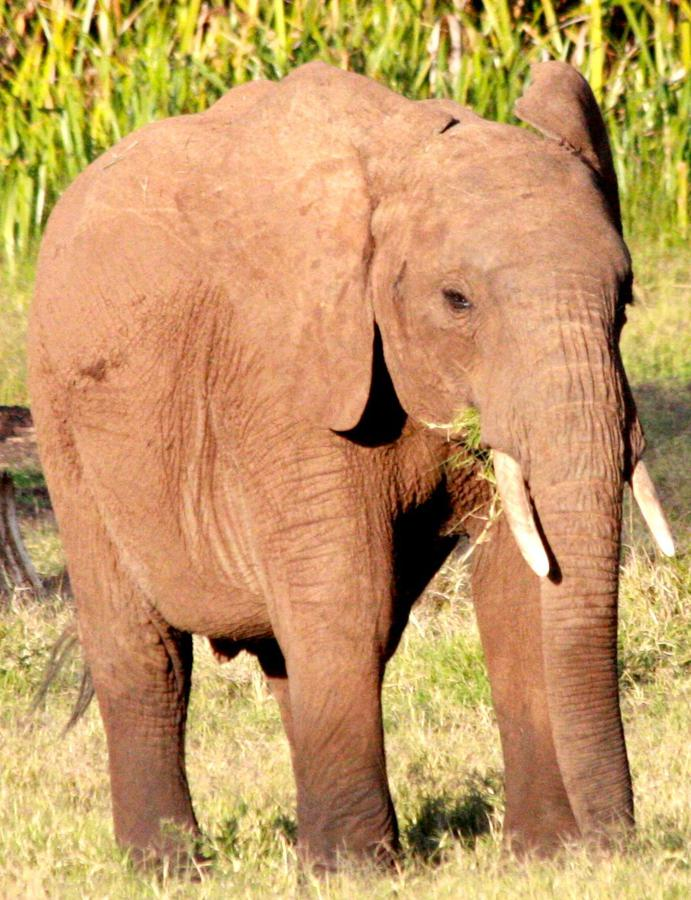elephant: (204, 91, 665, 498)
